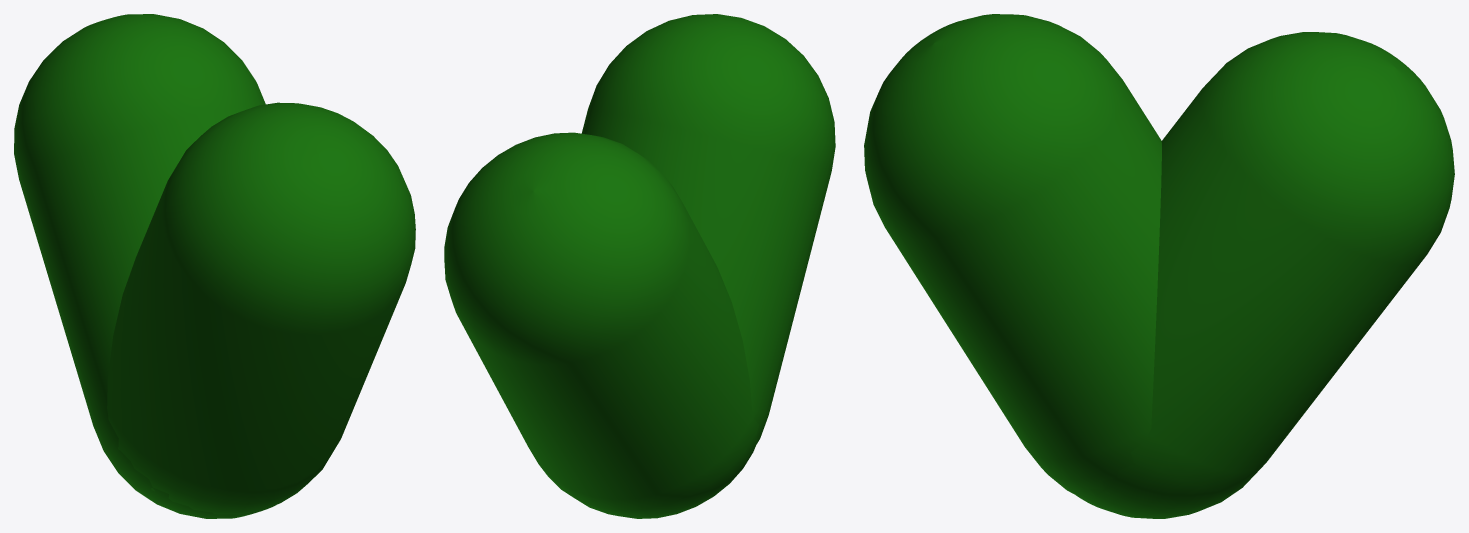
The model's file is SM_HealthPickup1.FBX.
The picture shows the model from 3 angles, left to right: view 1: azimuth 30°, elevation 25°; view 2: azimuth 150°, elevation 25°; view 3: azimuth 270°, elevation 25°; orthographic projection. The views are drawn at different scales.
Visible parts, largest first — view 1: SM_HealthPickup1; view 2: SM_HealthPickup1; view 3: SM_HealthPickup1.
Part boxes in pixels (bbox=[...]): SM_HealthPickup1: bbox=[14, 14, 415, 518]; SM_HealthPickup1: bbox=[444, 14, 835, 518]; SM_HealthPickup1: bbox=[864, 14, 1454, 518].
Size of the model in its own units: 50 by 105 by 94.41.
